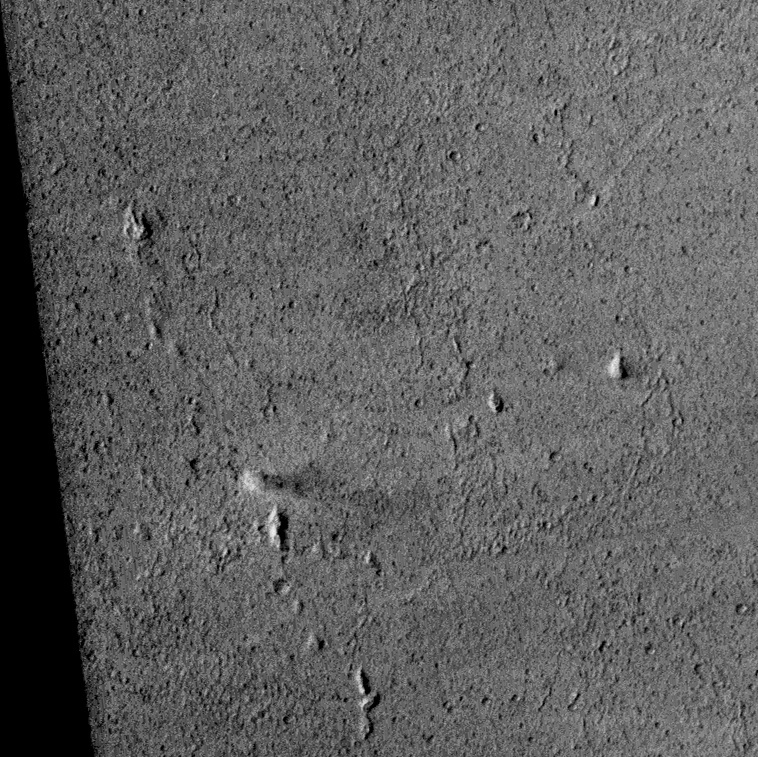dust_devil: (236, 465, 322, 498)
